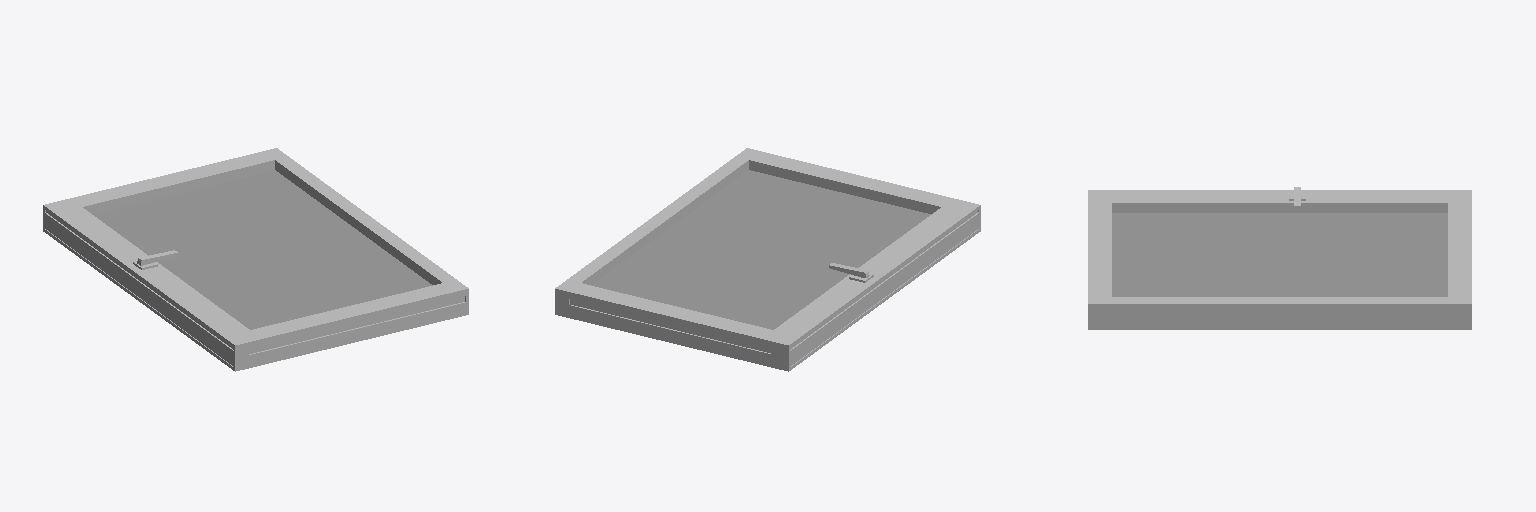
File: Window.obj
The picture shows the model from 3 angles: view 1: azimuth 30°, elevation 25°; view 2: azimuth 150°, elevation 25°; view 3: azimuth 270°, elevation 25°; orthographic projection.
Visible parts, largest first — view 1: Cube.004; view 2: Cube.004; view 3: Cube.004.
Part boxes in pixels (x1,y1,x2,y2): Cube.004: (43,148,468,371); Cube.004: (555,148,980,371); Cube.004: (1088,187,1471,329).
Size of the model in its own units: 3.94 by 0.5464 by 5.6.